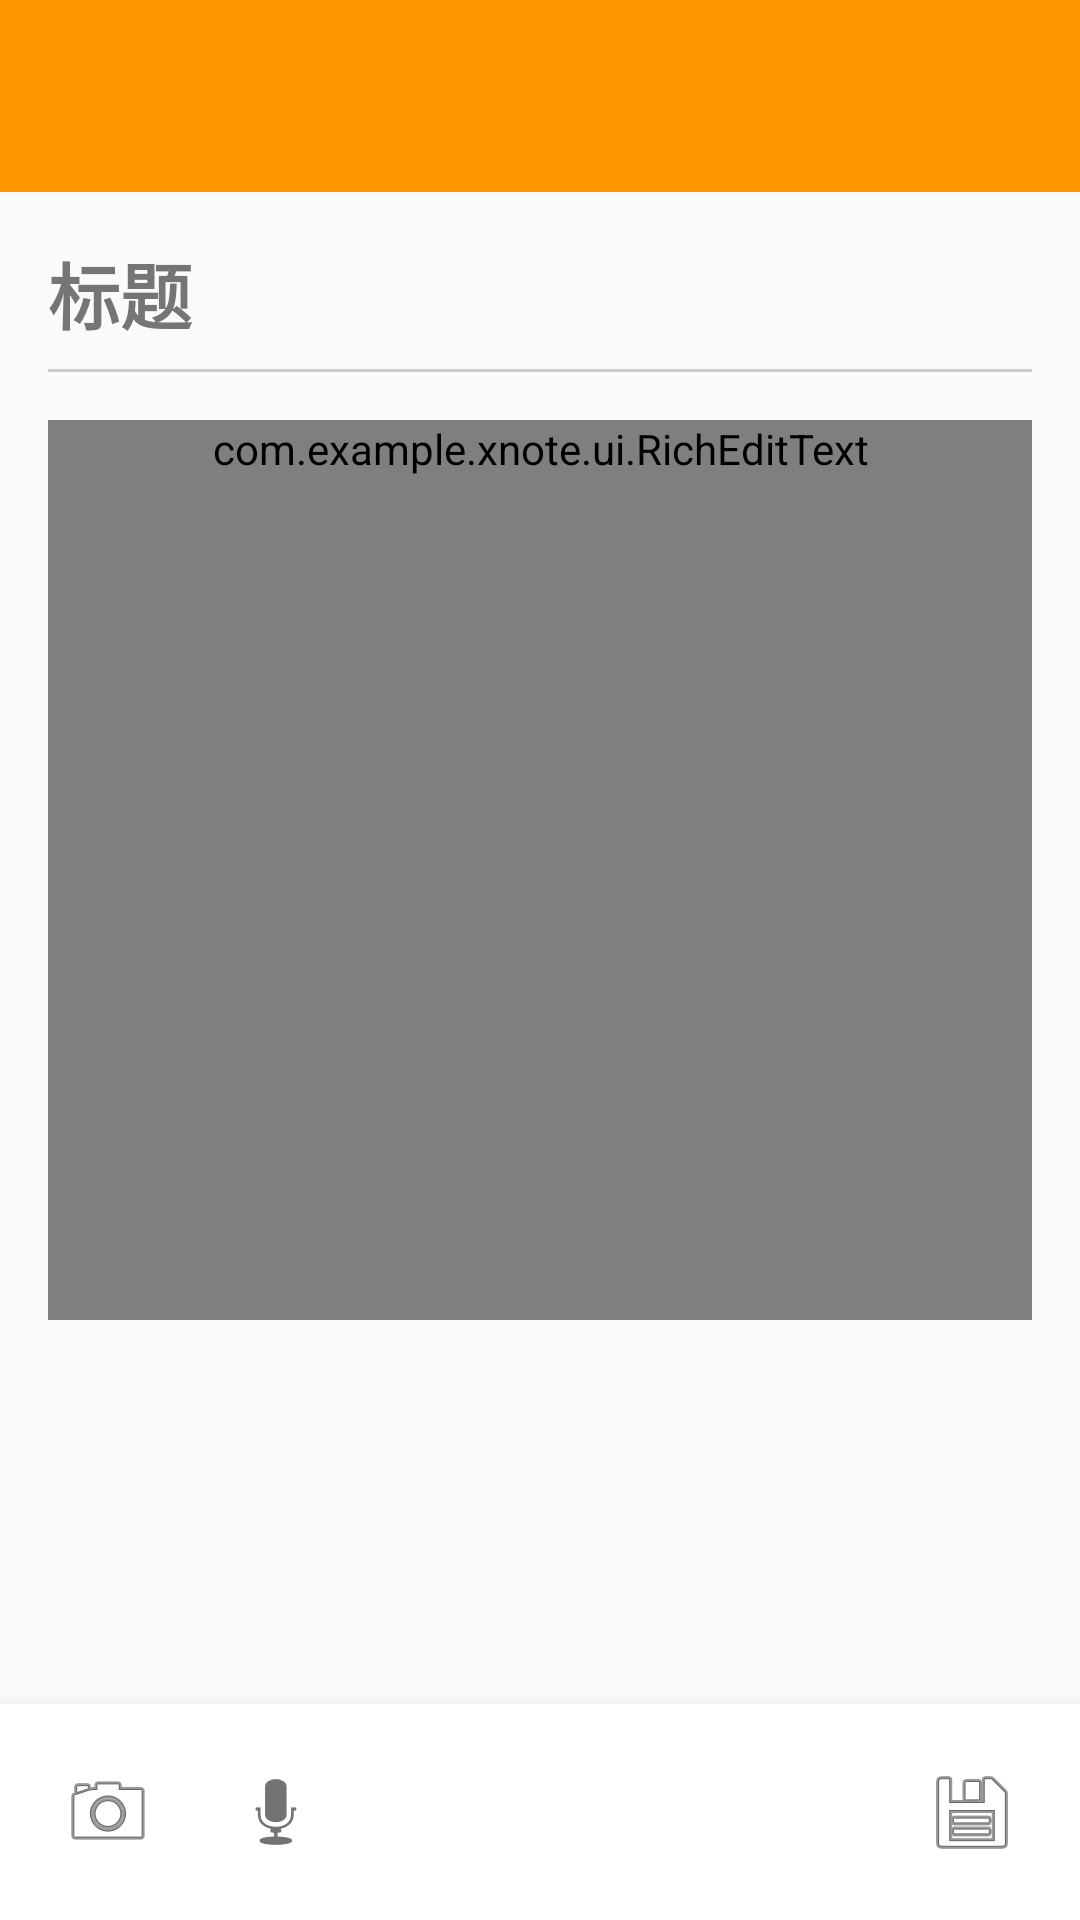

Point at icon controls on the screen. Image size 1080w x 1920h, points as (x=x, y=y).
保存: (x=972, y=1812)
插入图片: (x=108, y=1810)
插入音频: (x=276, y=1812)
